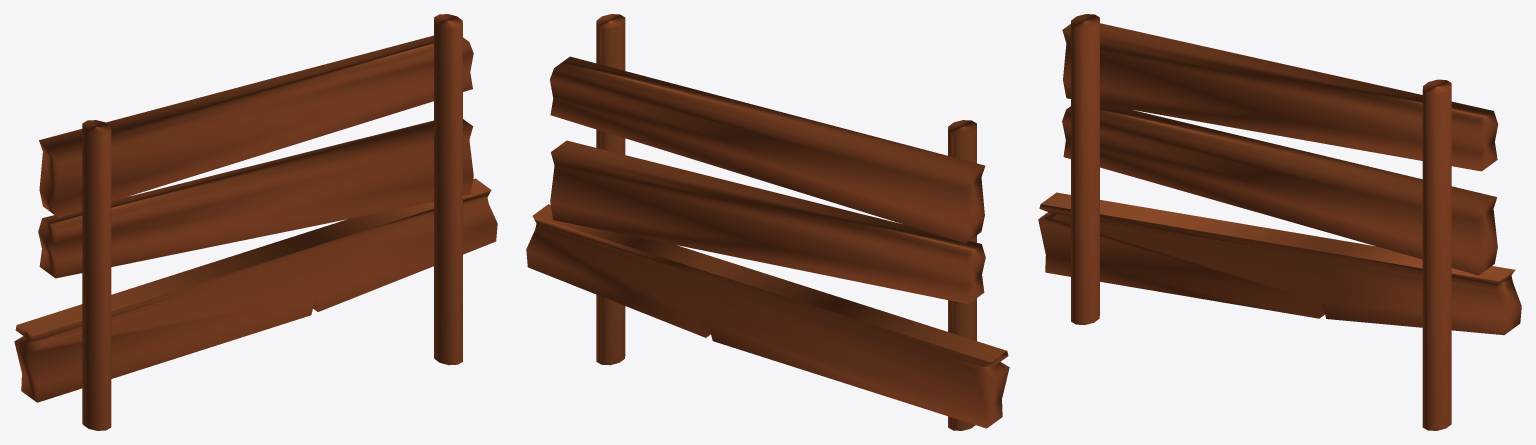
The model's file is LowPolyFence1.fbx.
3 renders of one model, left to right at view 1: azimuth 30°, elevation 25°; view 2: azimuth 150°, elevation 25°; view 3: azimuth 330°, elevation 25°, orthographic.
Parts seen in each view (by area): view 1: Cylinder.016; view 2: Cylinder.016; view 3: Cylinder.016.
Part boxes in pixels (left/top/right/bottom): Cylinder.016: left=14, top=14, right=497, bottom=430; Cylinder.016: left=526, top=14, right=1009, bottom=430; Cylinder.016: left=1038, top=14, right=1521, bottom=430.
Size of the model in its own units: 10159 by 6996 by 1320.
